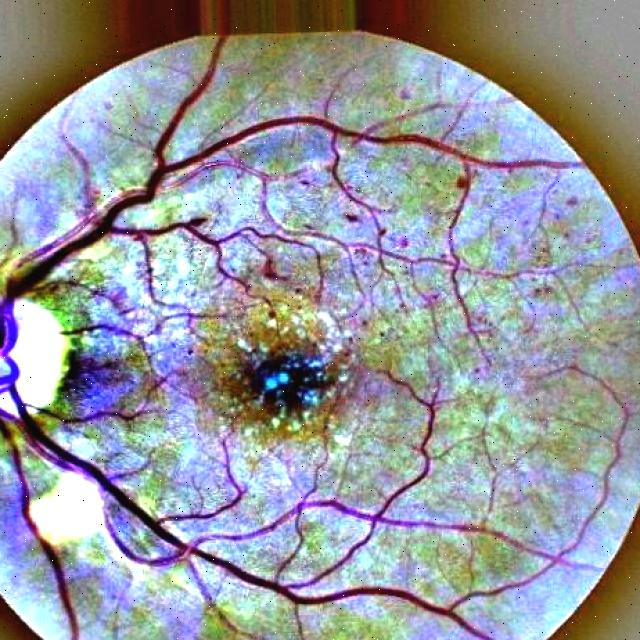Macula: (251, 349, 332, 413)
Nerves: (0, 36, 626, 640)
Optic Disk: (0, 301, 68, 417)
